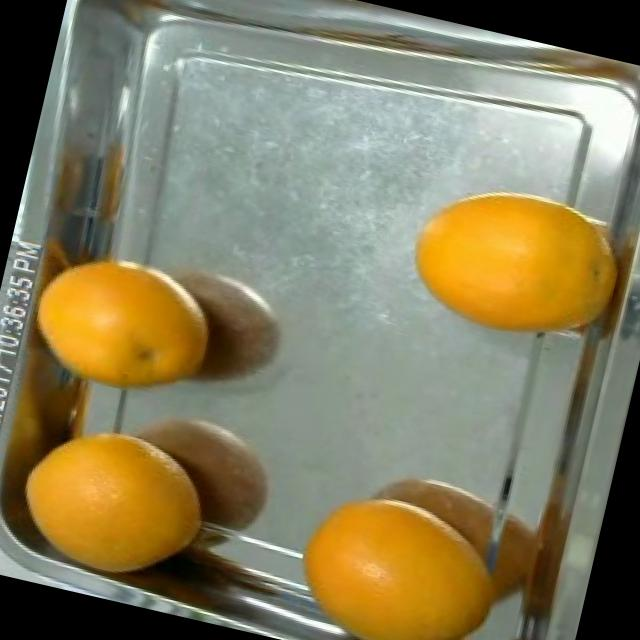Fruit: (0, 396, 238, 606), (384, 160, 621, 364), (260, 465, 519, 640), (11, 230, 241, 425)
